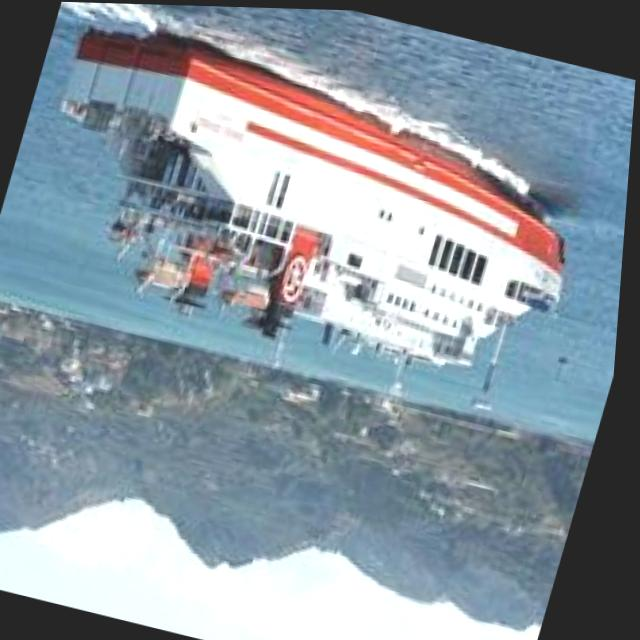ship2: (60, 27, 570, 407)
